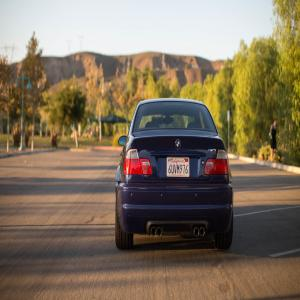Vehicle-registration-plate: (168, 157, 191, 179)
